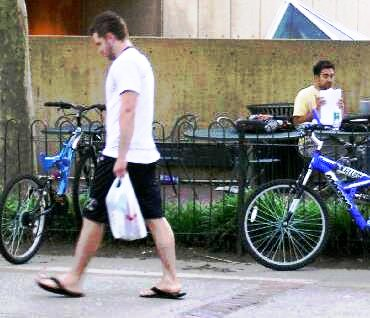person: (36, 9, 190, 305), (290, 60, 350, 126)
